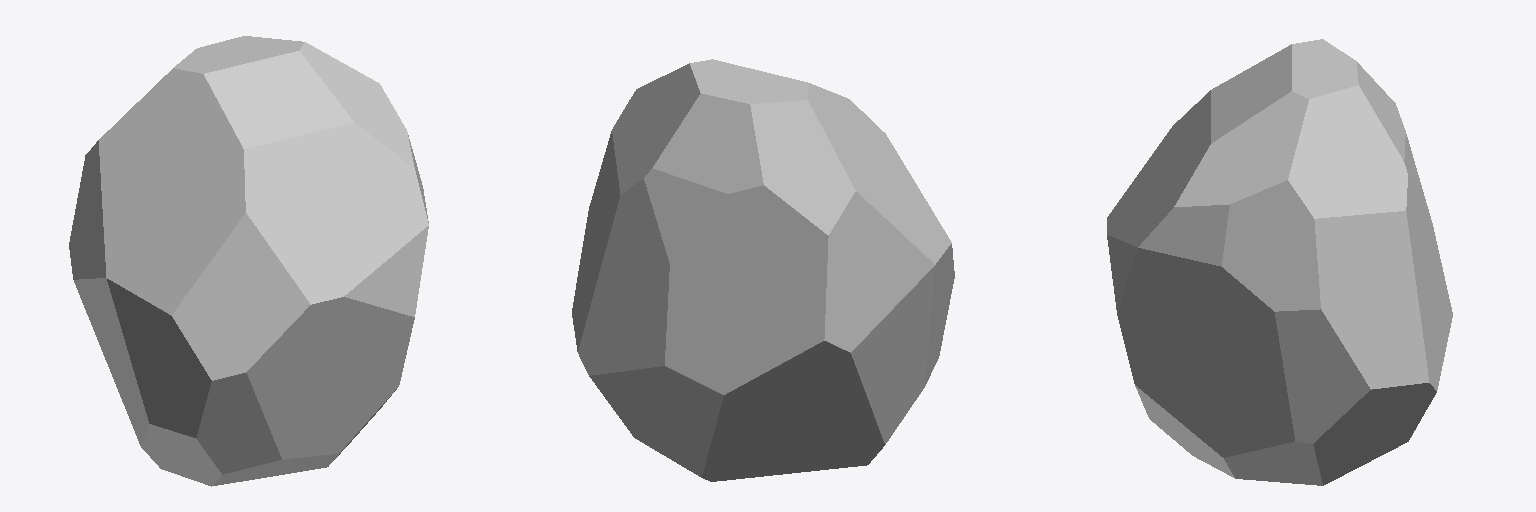
The model's file is Prop_Decorative_Rock_6.obj.
3 views of the same model, side by side, from view 1: azimuth 30°, elevation 25°; view 2: azimuth 150°, elevation 25°; view 3: azimuth 270°, elevation 25° (orthographic).
Visible parts, largest first — view 1: Rock; view 2: Rock; view 3: Rock.
Part boxes in pixels (x1,y1,x2,y2): Rock: (69,36,428,486); Rock: (572,59,954,481); Rock: (1107,39,1452,485).
Size of the model in its own units: 1.15 by 1.31 by 1.09.